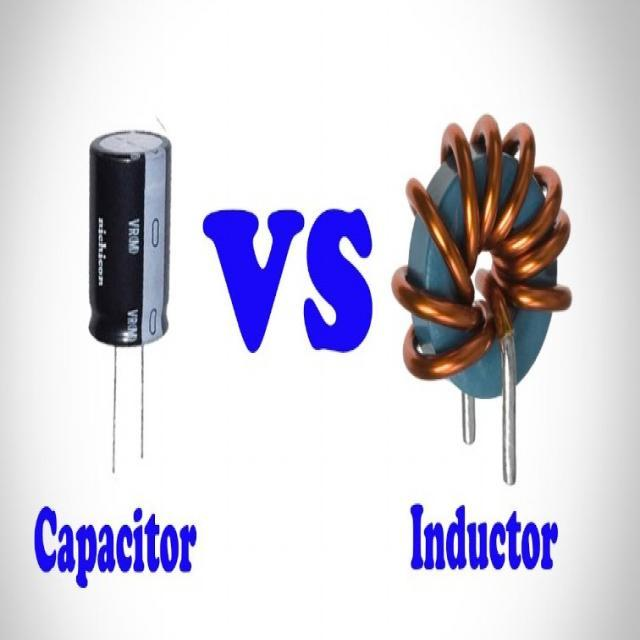Capacitor: (89, 131, 170, 473)
Inductor: (392, 116, 571, 483)
